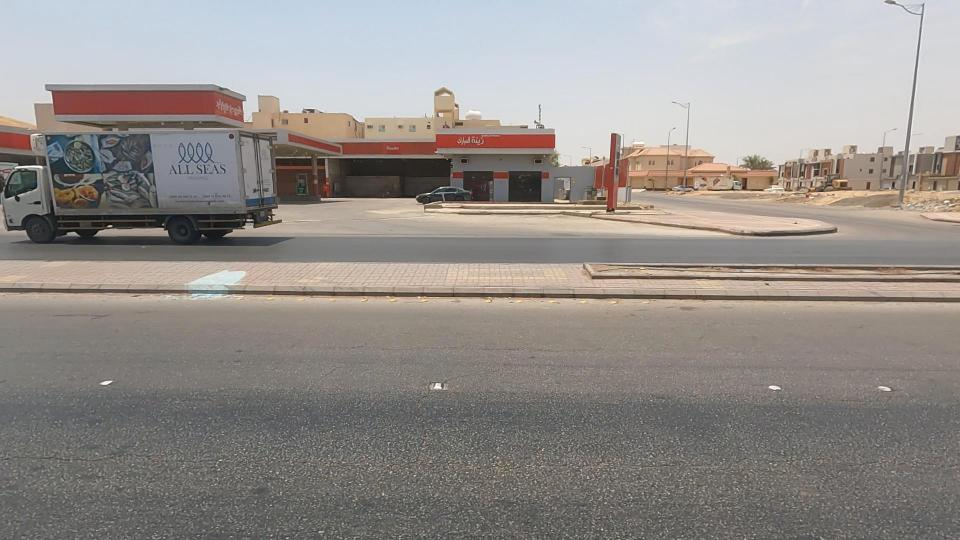CLUTTER_SIDEWALK: (523, 245, 940, 297)
